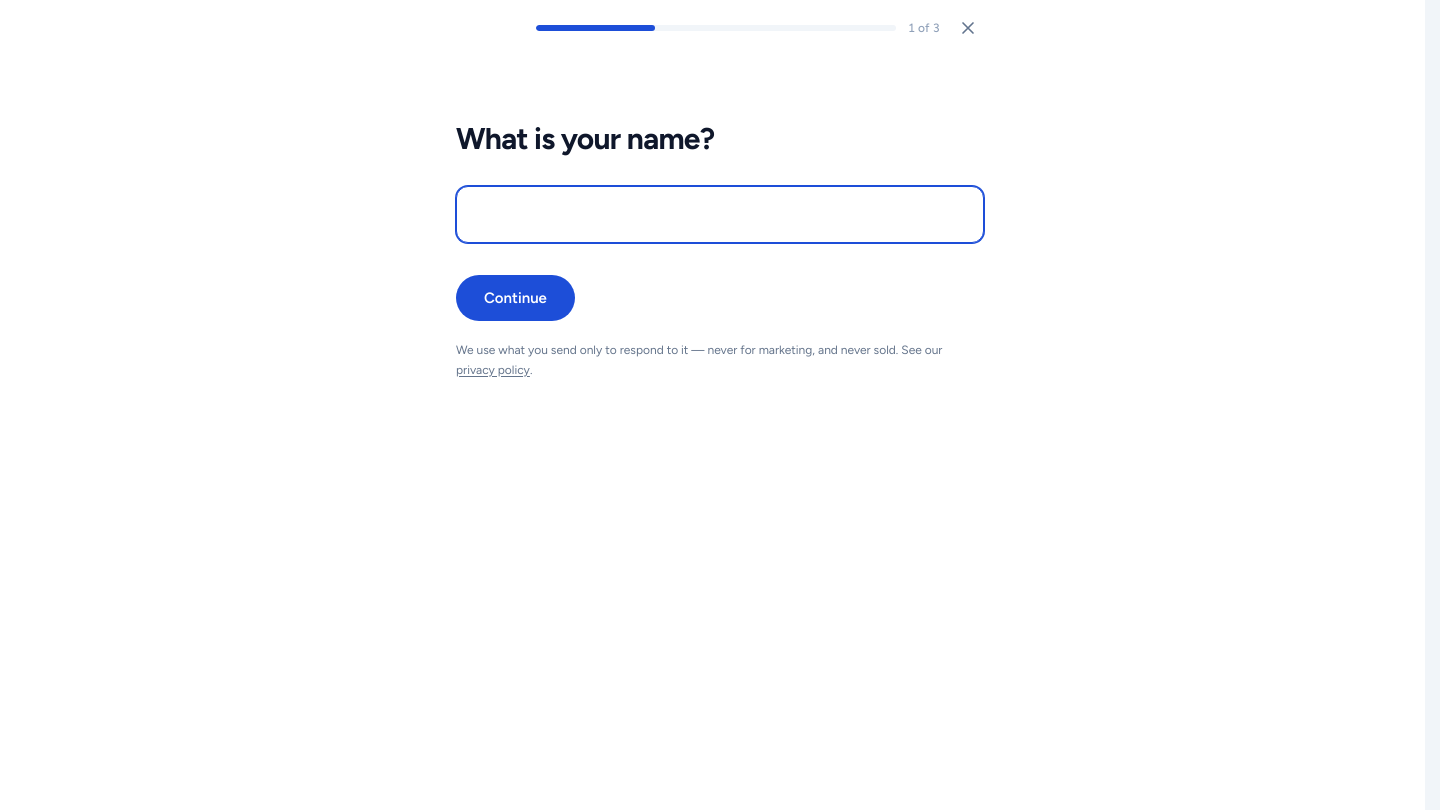
Test: Wizard — step flow › blocks Continue on a required, empty step
Click the button "Continue": (515, 298) [456, 274, 575, 321]
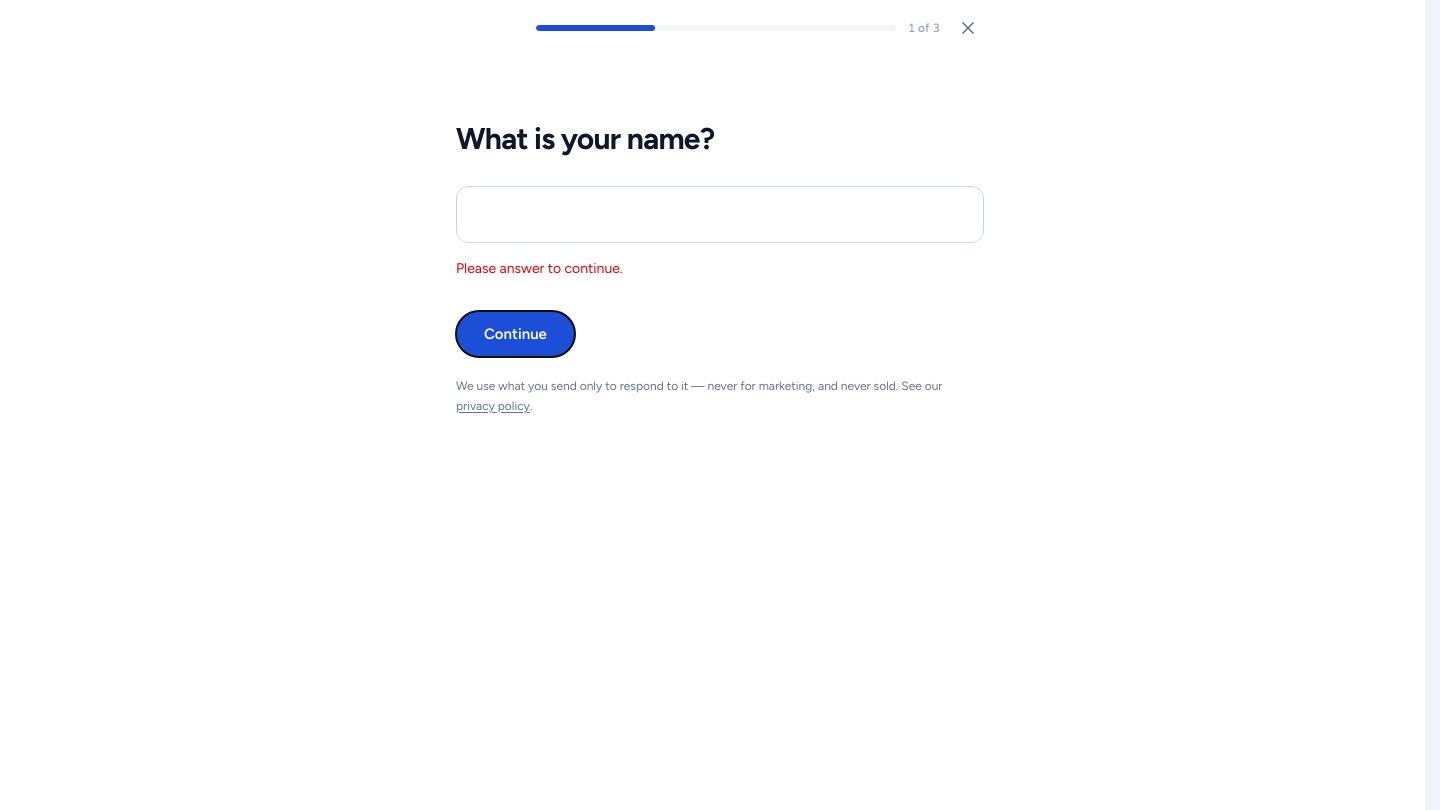
Expected: the heading "What is your name?" is shown, [456, 120, 714, 157]
Result: the text "Please answer to continue." is shown at [456, 260, 623, 276]
